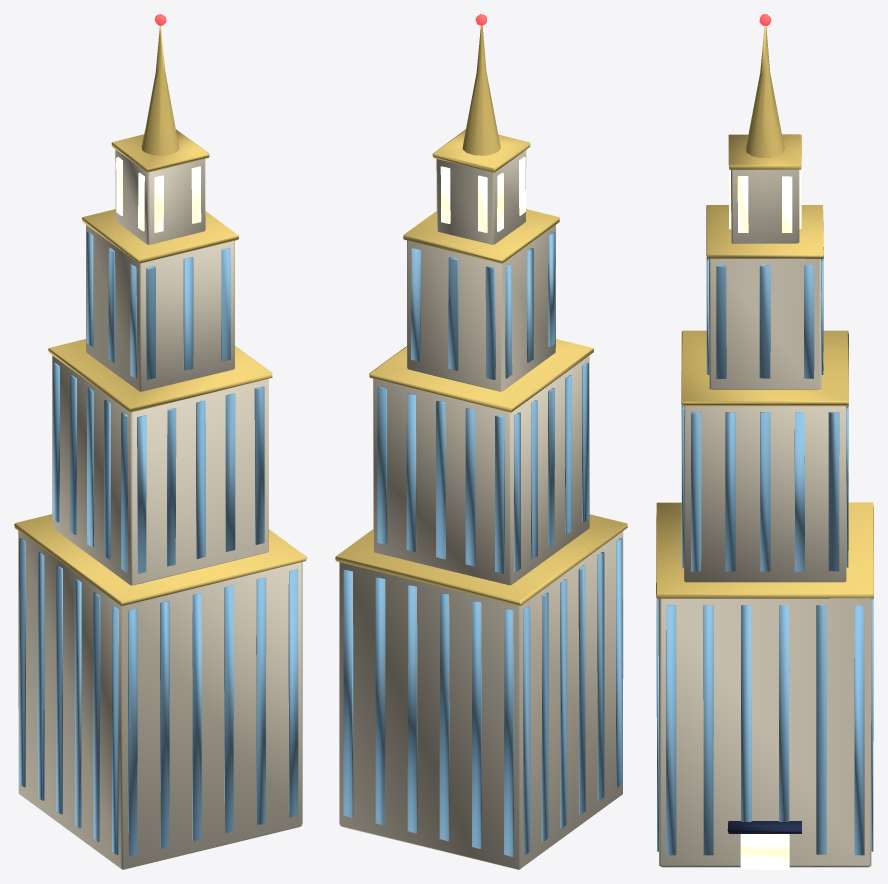
The model's file is skyscraper.glb.
3 views of the same model, side by side, from view 1: azimuth 30°, elevation 25°; view 2: azimuth 150°, elevation 25°; view 3: azimuth 270°, elevation 25° (orthographic).
Parts seen in each view (by area): view 1: skyscraper; view 2: skyscraper; view 3: skyscraper.
Boxes of the visible parts, box(x1,y1,x2,y2) form: skyscraper: box(14, 14, 306, 869); skyscraper: box(335, 14, 627, 869); skyscraper: box(656, 14, 873, 869).
Size of the model in its own units: 18.86 by 71.08 by 17.34.
1 material, 1 textured.
